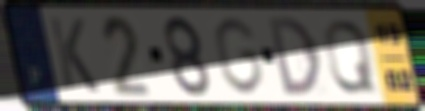2: (99, 12, 156, 98)
8: (162, 13, 212, 98)
D: (264, 15, 324, 98)
G: (210, 14, 267, 97)
K: (46, 14, 102, 95)
Q: (321, 17, 379, 96)
